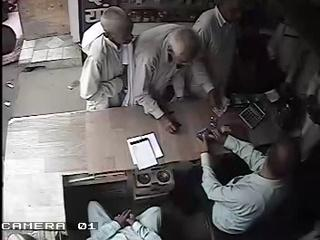Normal: (198, 94, 306, 239), (121, 23, 202, 134), (189, 0, 244, 112), (86, 200, 164, 240)
shoplifting: (78, 6, 134, 111)
